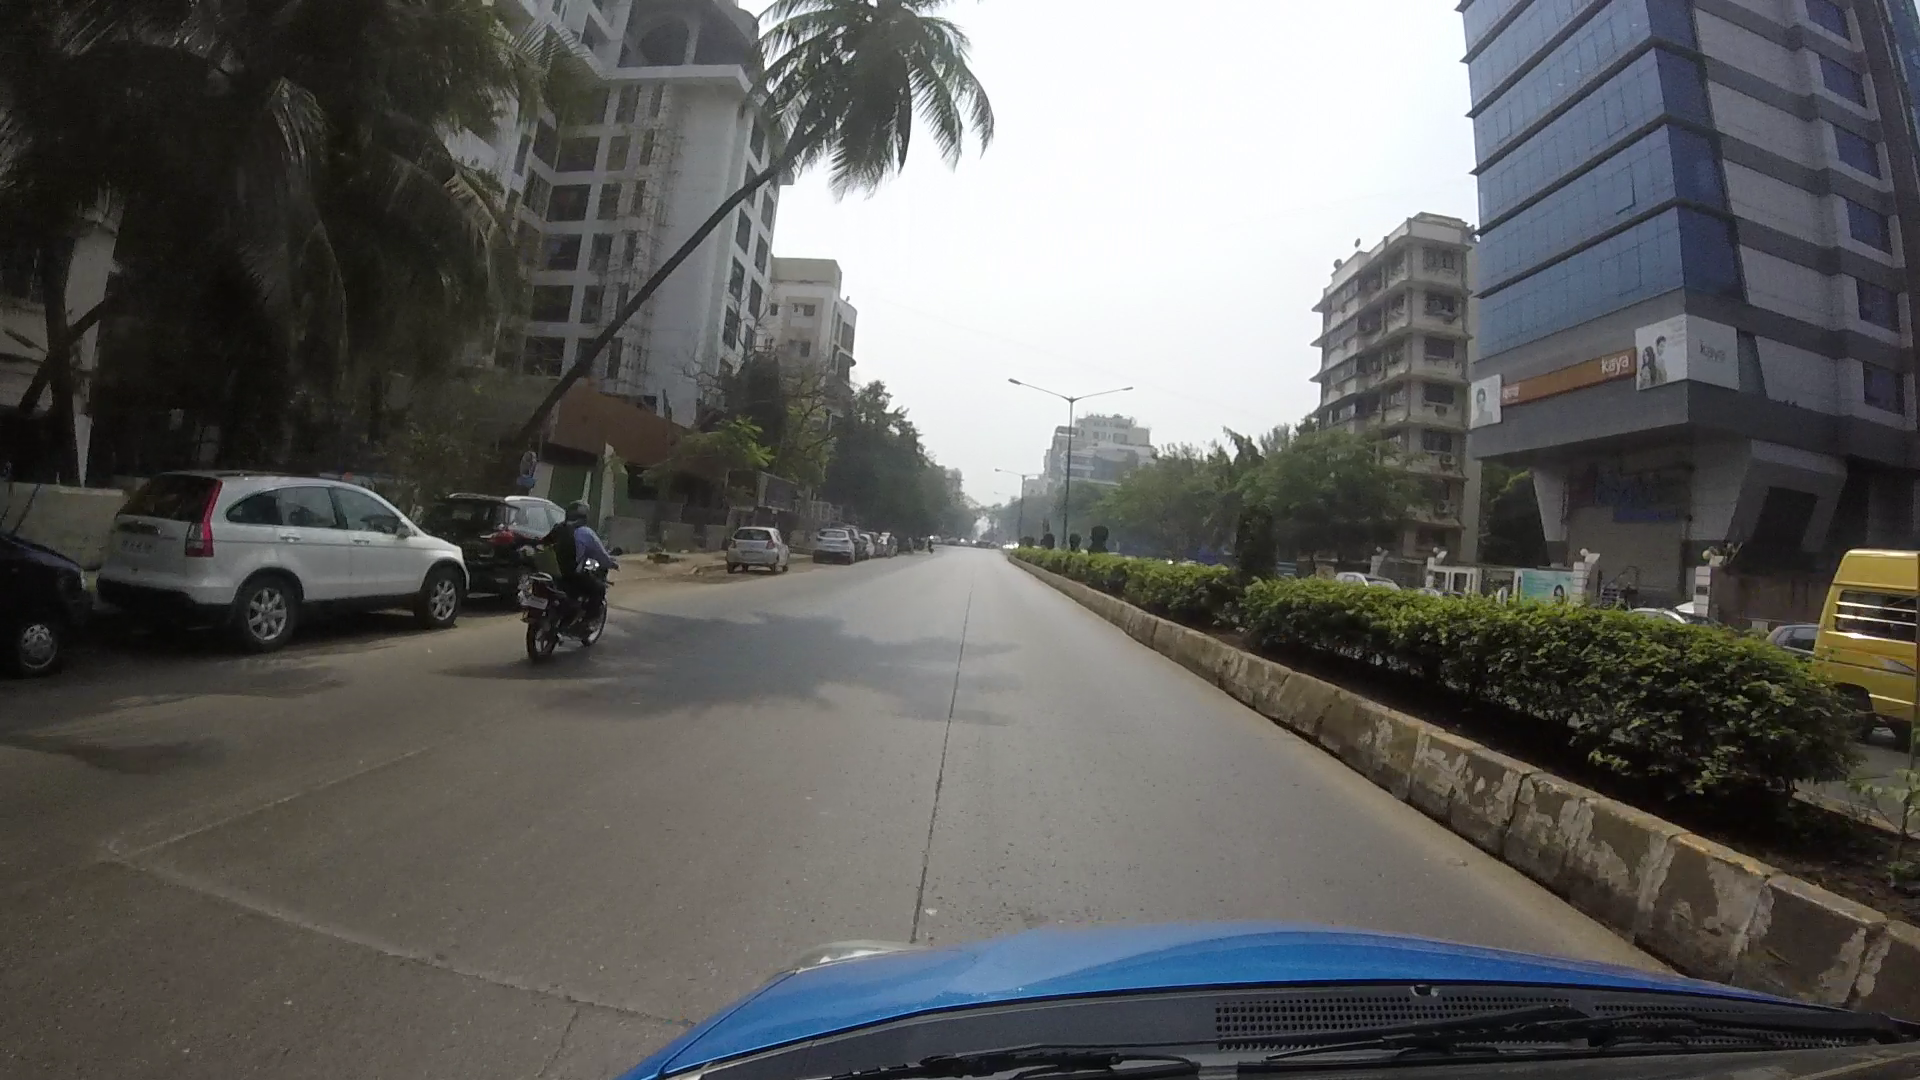bike/scooter: (521, 498, 625, 657)
bus: (1795, 512, 1919, 764)
car: (103, 448, 464, 640), (5, 518, 98, 673), (436, 475, 562, 588), (721, 509, 793, 589)
